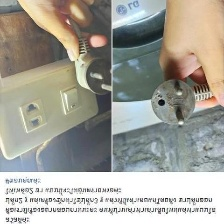three_eye_plug: (0, 55, 101, 165)
